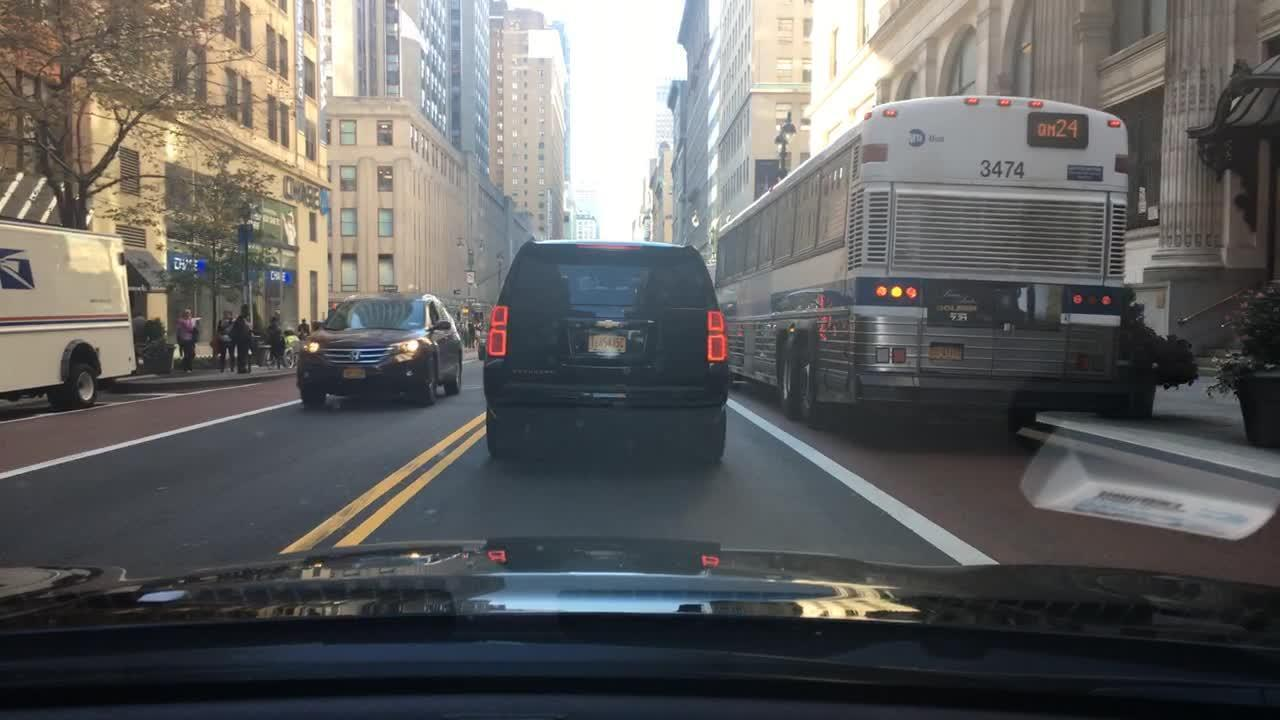Honda: (348, 347, 363, 363)
chevrolet: (592, 314, 625, 333)
